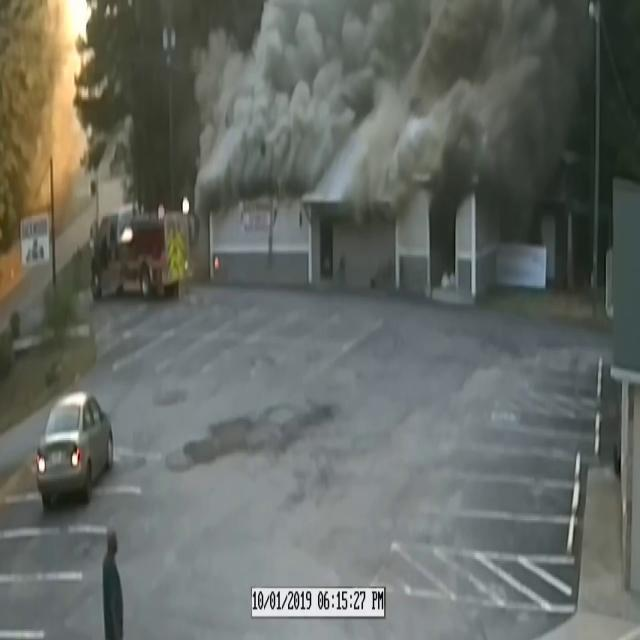Smoke: (187, 0, 583, 219)
